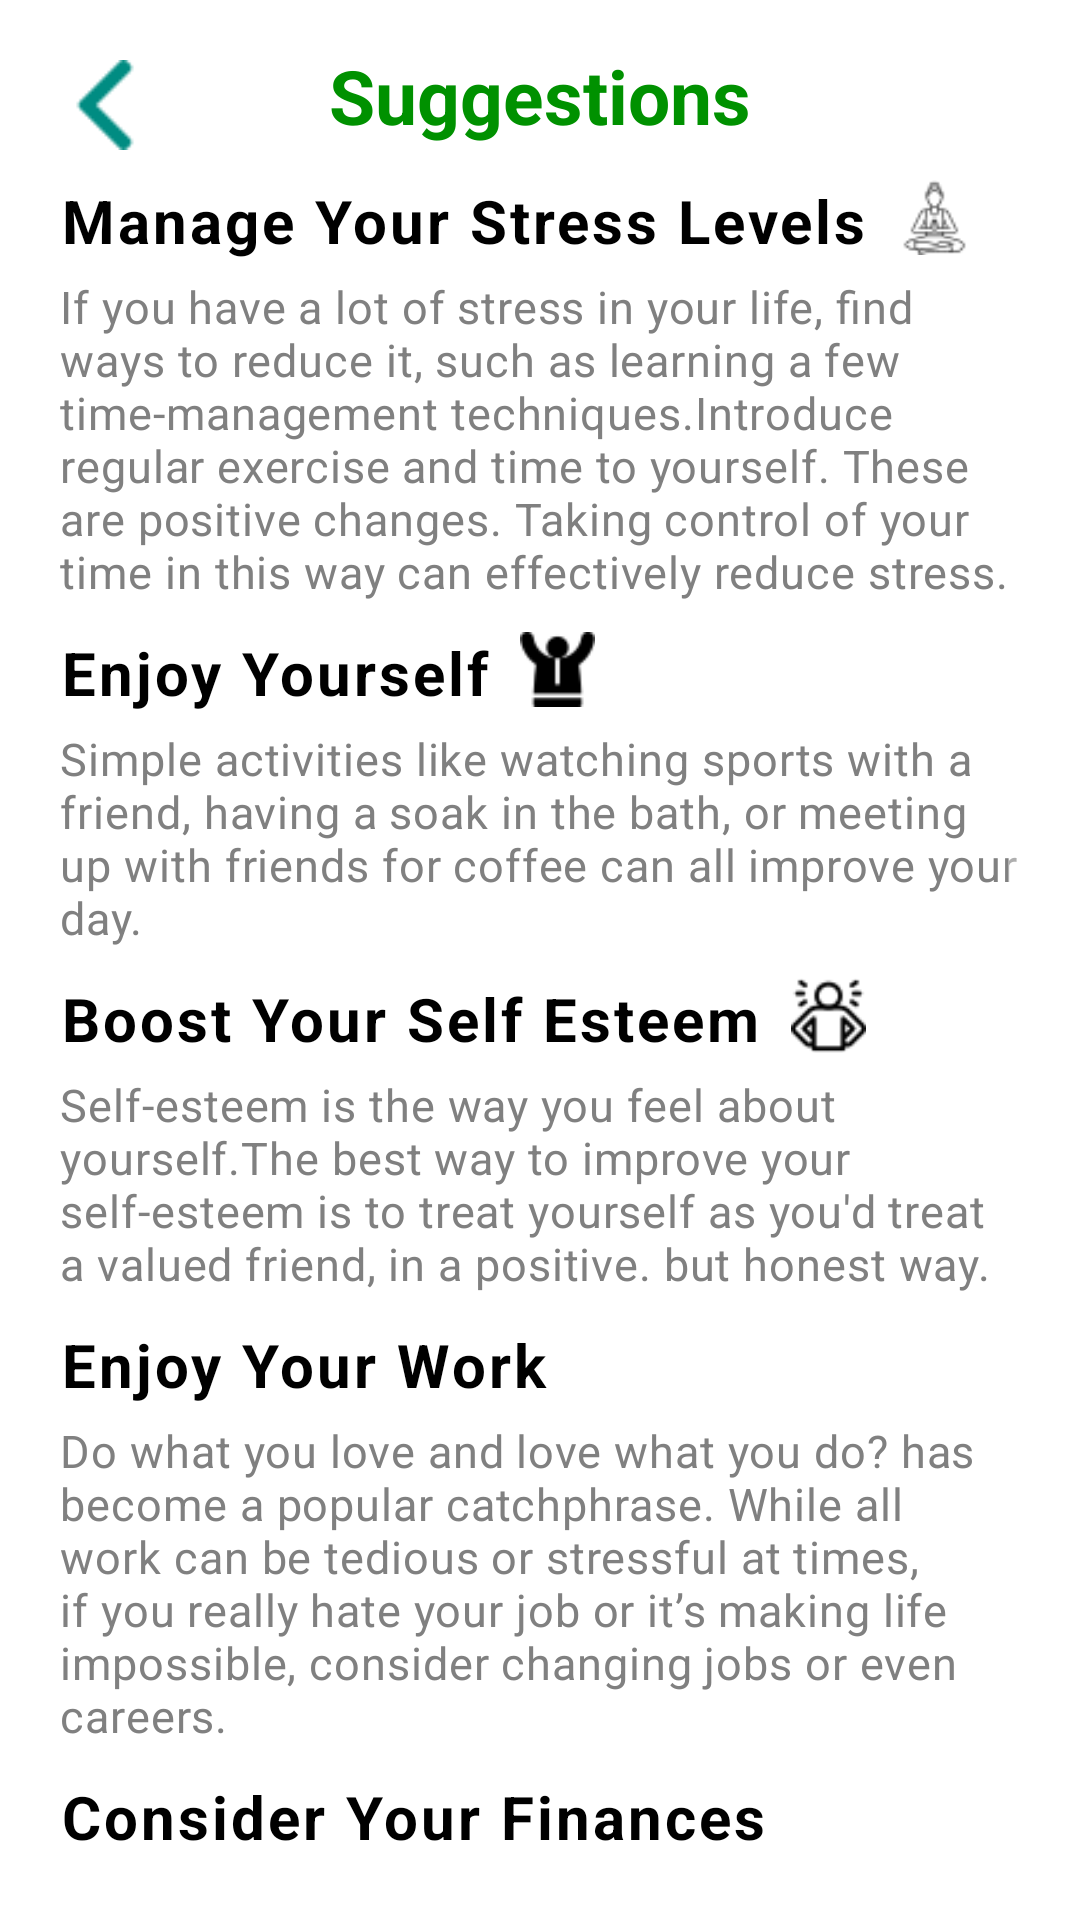

Where icons sit on this 1080w x 1920h app screen, as {"left": x1, "top": y1, "right": x2, "bottom": y2}:
arrow back: {"left": 76, "top": 60, "right": 134, "bottom": 150}
